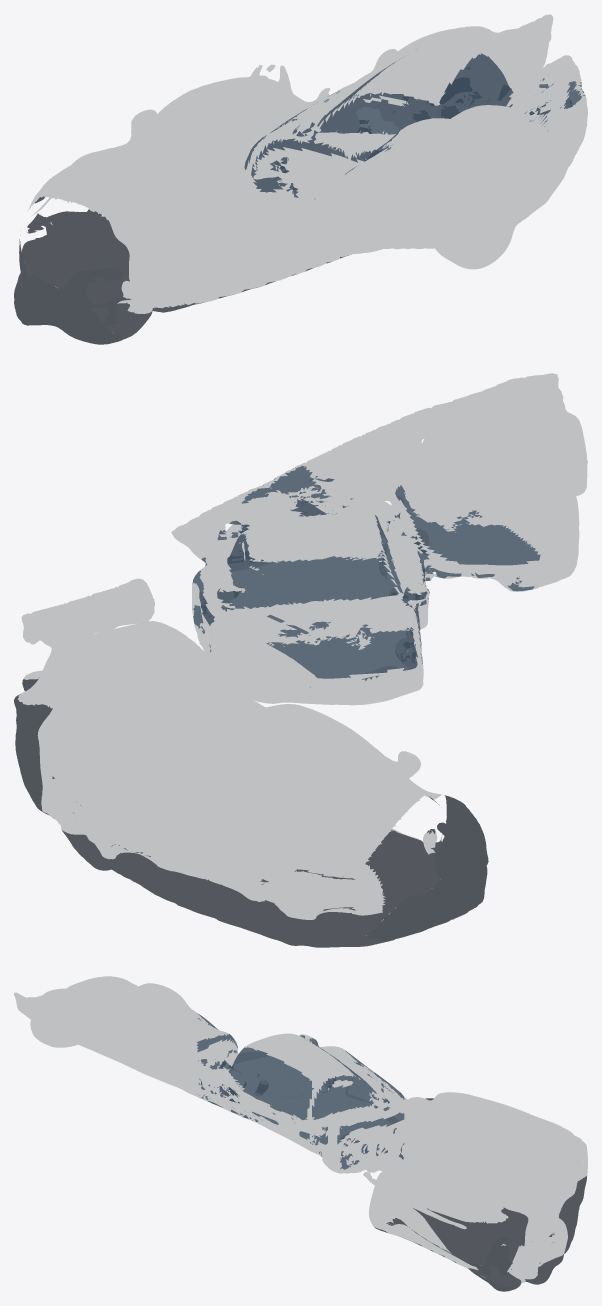
The model's file is audirs3lmsgen2.glb.
The picture shows the model from 3 angles, top to bottom: view 1: azimuth 30°, elevation 25°; view 2: azimuth 150°, elevation 25°; view 3: azimuth 270°, elevation 25°; orthographic projection. The views are drawn at different scales.
Parts seen in each view (by area): view 1: body, glass, carbon, tire; view 2: body, glass, carbon, tire; view 3: body, glass, carbon, tire.
Boxes of the visible parts, left/top/right/bottom form: body: left=27, top=14, right=587, bottom=313; glass: left=244, top=49, right=585, bottom=199; carbon: left=17, top=120, right=370, bottom=338; tire: left=14, top=85, right=509, bottom=344; body: left=18, top=373, right=587, bottom=919; glass: left=192, top=465, right=540, bottom=687; carbon: left=45, top=802, right=442, bottom=947; tire: left=14, top=677, right=488, bottom=941; body: left=14, top=976, right=587, bottom=1284; glass: left=197, top=1013, right=404, bottom=1169; carbon: left=374, top=1175, right=587, bottom=1287; tire: left=425, top=1098, right=518, bottom=1291.
Size of the model in its own units: 1.5 by 0.9296 by 1.95.
